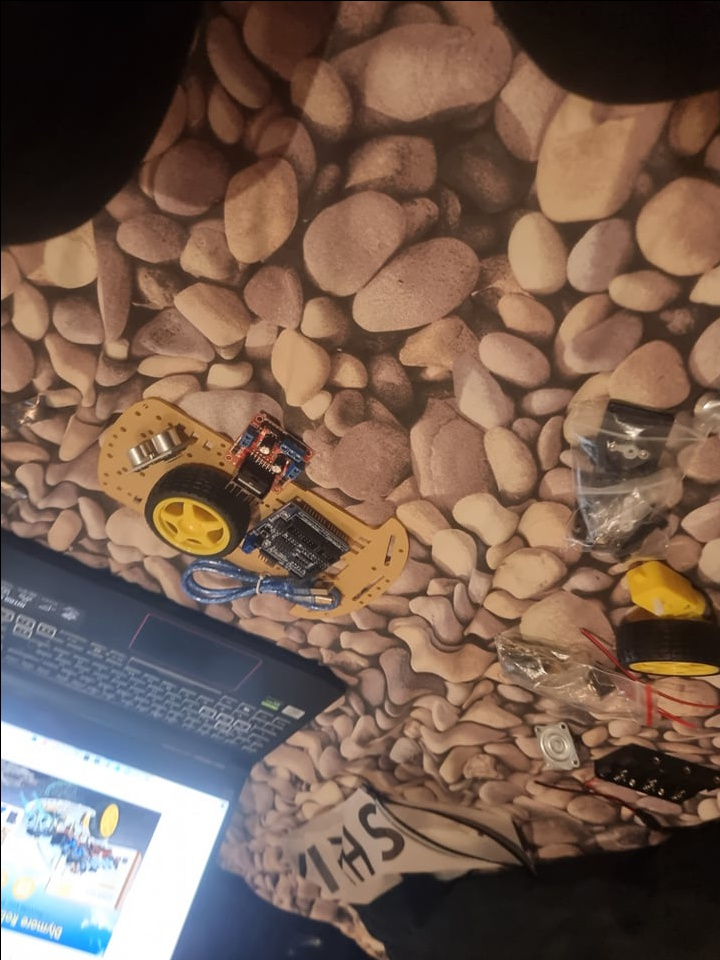5V EXPANSION: (242, 497, 352, 583)
BATTERY BOX: (593, 742, 712, 818)
MOTOR: (223, 409, 314, 498)
SENSOR: (123, 425, 187, 469)
